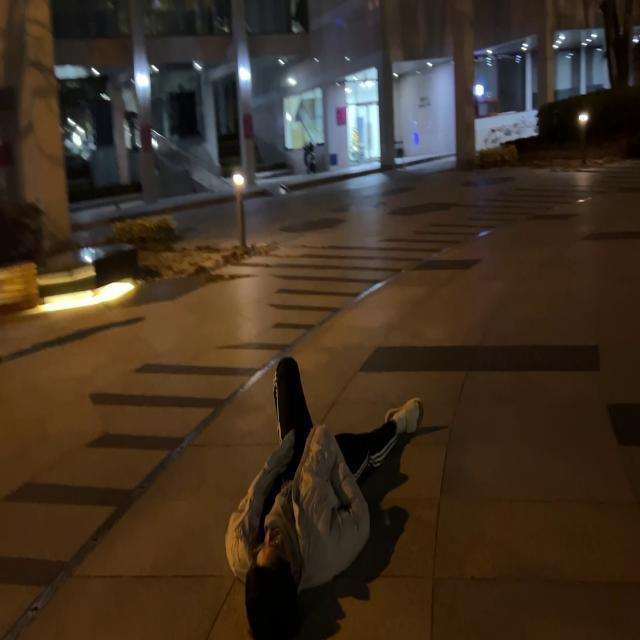Fall: (226, 358, 424, 640)
